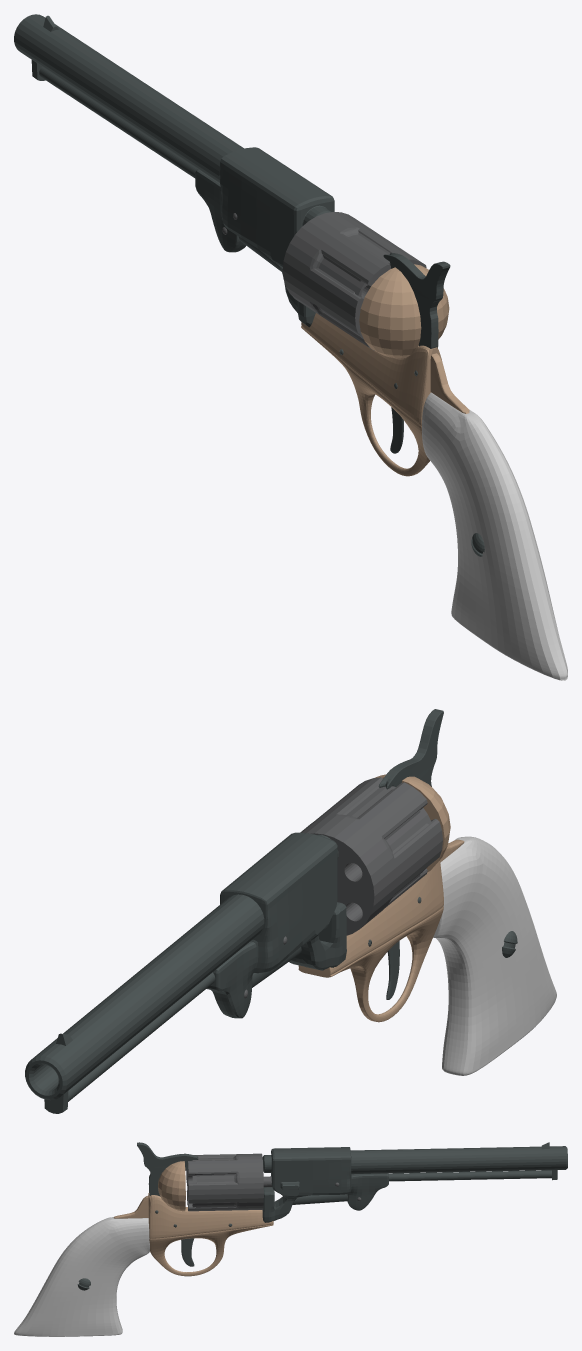
Rendered from ConfederatePistolf.obj.
The picture shows the model from 3 angles, top to bottom: view 1: azimuth 30°, elevation 25°; view 2: azimuth 150°, elevation 25°; view 3: azimuth 270°, elevation 25°; orthographic projection. The views are drawn at different scales.
Visible parts, largest first — view 1: Grip, Barrel, Hinge, Cylinder, Receiver, Cylinder_back, Hammer, Loading_Lever, Frame_backstrap; view 2: Grip, Barrel, Hinge, Cylinder, Receiver, Hammer, Loading_Lever, Cylinder_back, Trigger; view 3: Grip, Hinge, Barrel, Cylinder, Receiver, Loading_Lever, Cylinder_back, Hammer, Frame_backstrap, Trigger.
Part boxes in pixels (x1,y1,x2,y2): Grip: (422,392,567,680); Barrel: (14,14,330,226); Hinge: (195,147,334,327); Cylinder: (282,212,426,350); Receiver: (301,313,441,476); Cylinder_back: (359,264,449,358); Hammer: (383,253,450,348); Loading_Lever: (39,66,197,178); Frame_backstrap: (430,353,469,413); Grip: (433,836,556,1075); Barrel: (25,834,338,1113); Hinge: (206,832,346,1018); Cylinder: (300,777,442,935); Receiver: (298,860,443,1022); Hammer: (378,709,443,789); Loading_Lever: (68,972,215,1101); Cylinder_back: (375,774,450,872); Trigger: (386,941,399,999); Grip: (14,1217,149,1336); Hinge: (262,1147,388,1222); Barrel: (262,1142,567,1180); Cylinder: (186,1153,271,1211); Receiver: (148,1193,273,1276); Loading_Lever: (388,1170,551,1181); Cylinder_back: (158,1161,185,1211); Hammer: (137,1142,198,1196); Frame_backstrap: (113,1196,148,1218); Trigger: (181,1238,194,1266).
Size of the model in its own units: 8.29 by 28.79 by 76.78.
